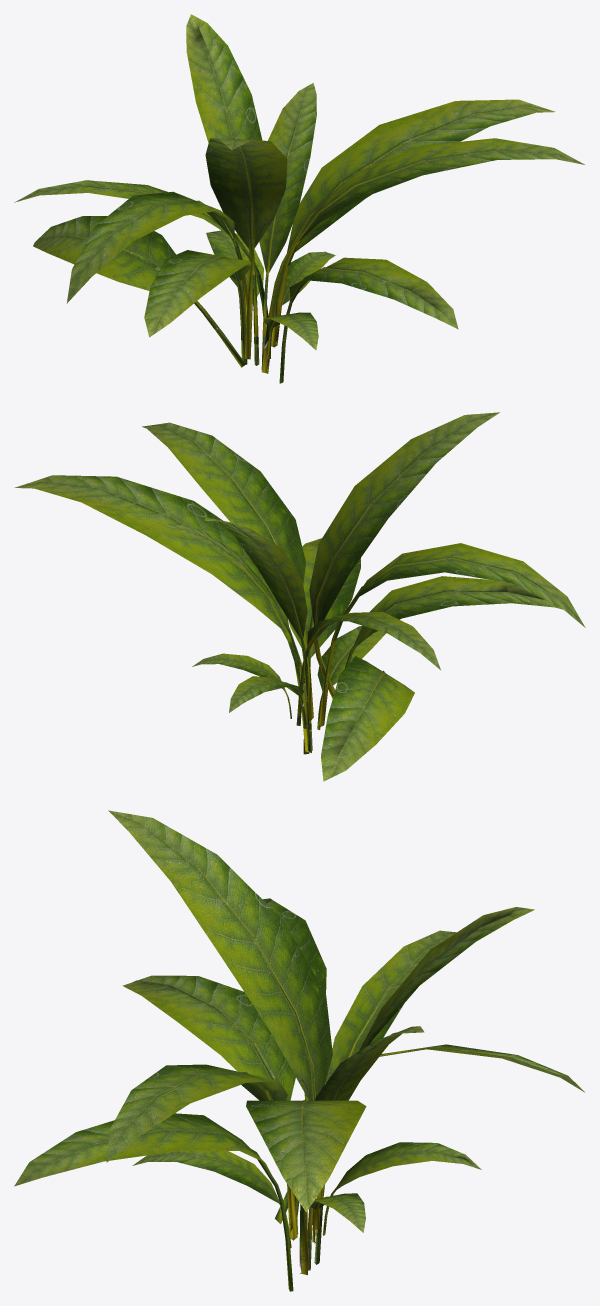
File: plant.fbx
The picture shows the model from 3 angles, top to bottom: view 1: azimuth 30°, elevation 25°; view 2: azimuth 150°, elevation 25°; view 3: azimuth 270°, elevation 25°; orthographic projection. The views are drawn at different scales.
Parts seen in each view (by area): view 1: Group1; view 2: Group1; view 3: Group1.
Part boxes in pixels (left/top/right/bottom): Group1: left=14, top=14, right=584, bottom=383; Group1: left=14, top=412, right=585, bottom=781; Group1: left=14, top=810, right=585, bottom=1291.
Bounding box in the file's own units: 1418 × 808 × 1036.
